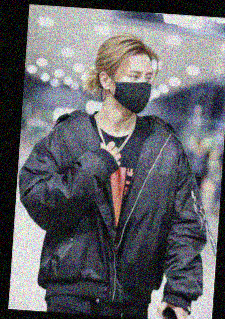with_mask: (111, 68, 153, 115)
